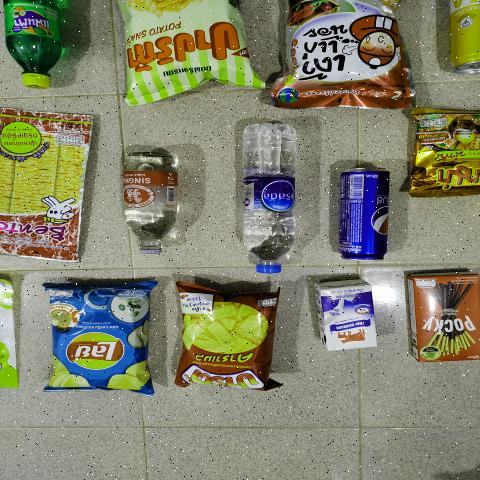bento_red: (0, 116, 96, 263)
crystal: (231, 117, 301, 278)
lay_blue: (50, 282, 151, 390)
mama: (415, 110, 480, 197)
paprika: (118, 0, 258, 89)
party_red: (184, 287, 276, 387)
pepsi_blue: (340, 164, 390, 258)
pokki: (406, 275, 480, 360)
singha_soda: (121, 154, 184, 254)
taokaenoi: (290, 0, 402, 104)
thai_denmark: (320, 278, 370, 351)
